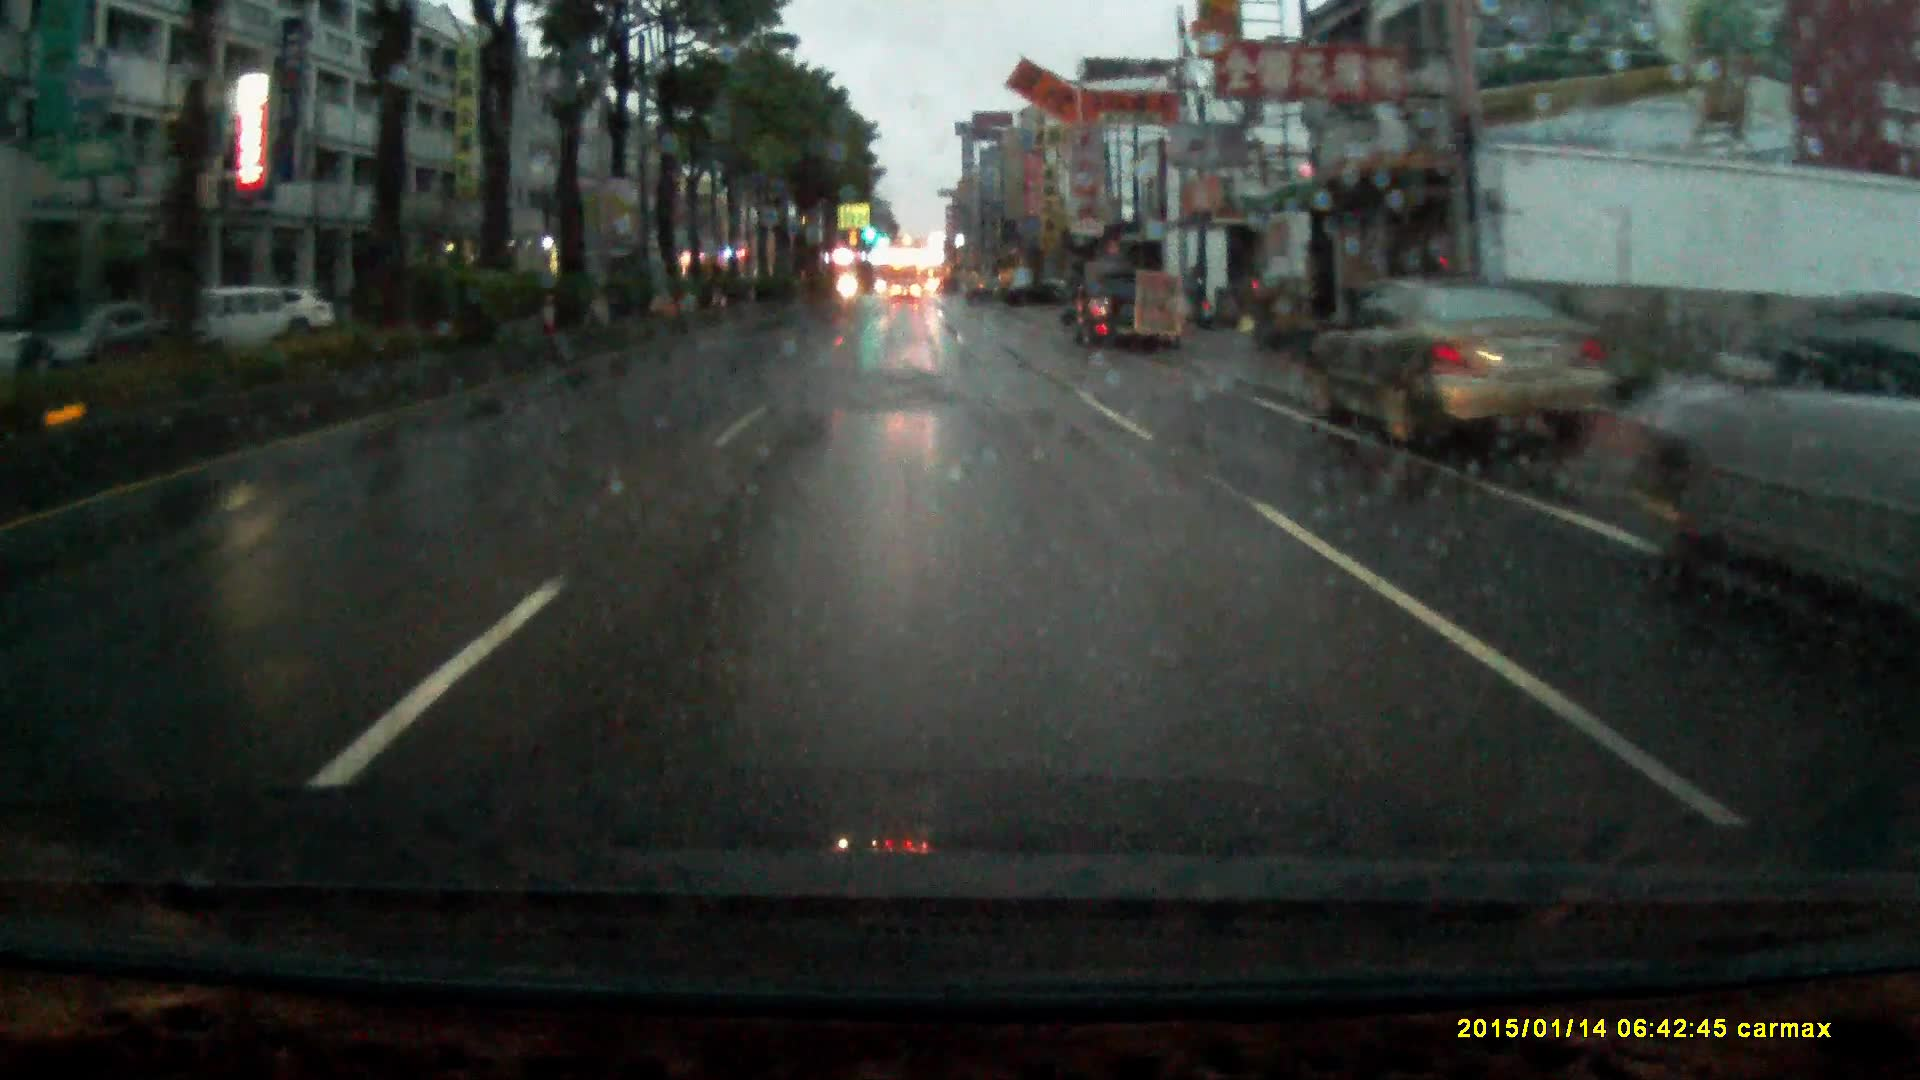vehicle: (1308, 276, 1614, 447), (142, 299, 294, 368), (29, 301, 175, 369), (1072, 264, 1174, 357), (891, 284, 920, 305)
